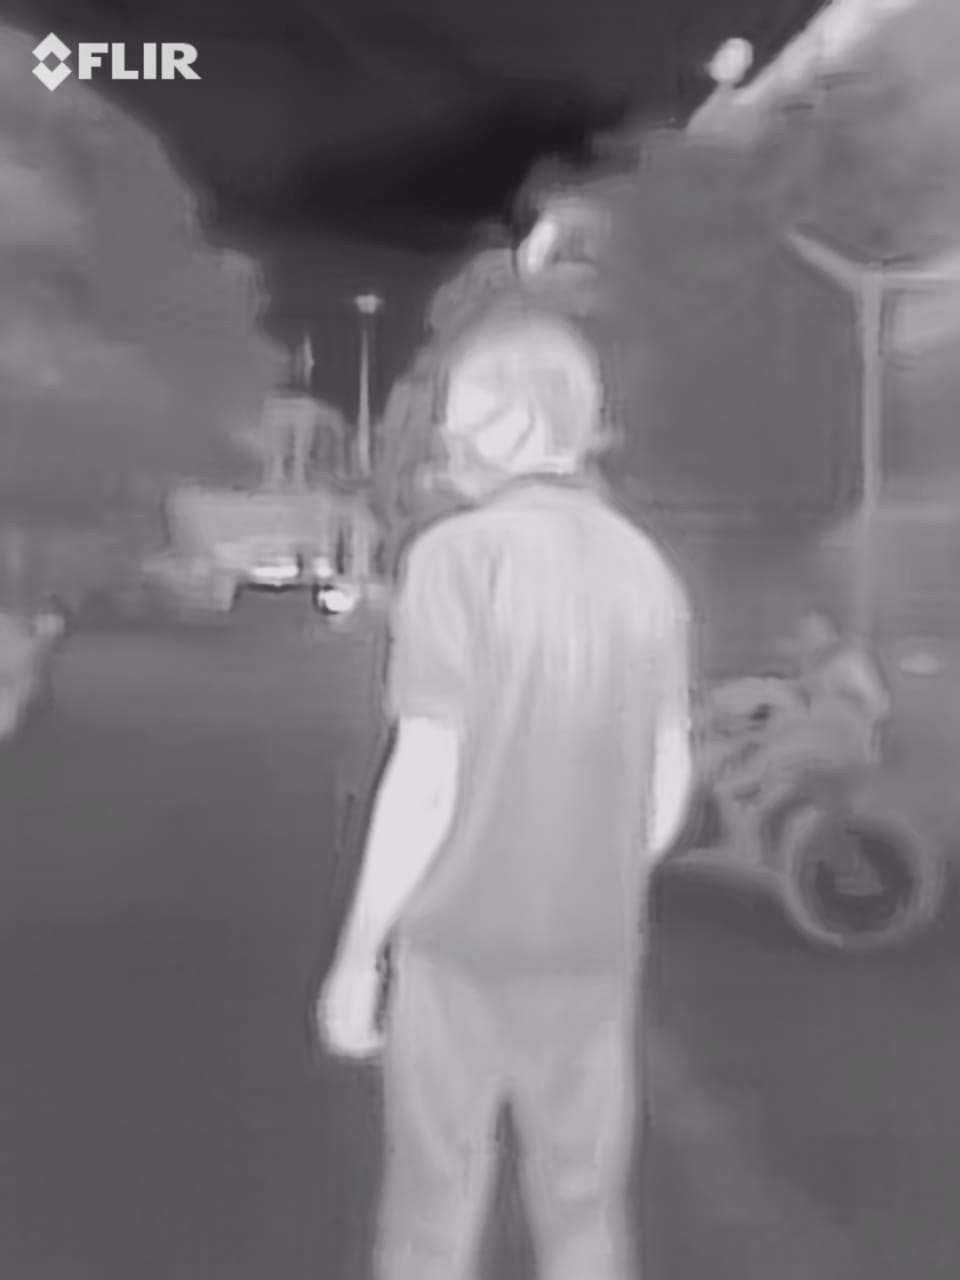head: (428, 296, 626, 515)
